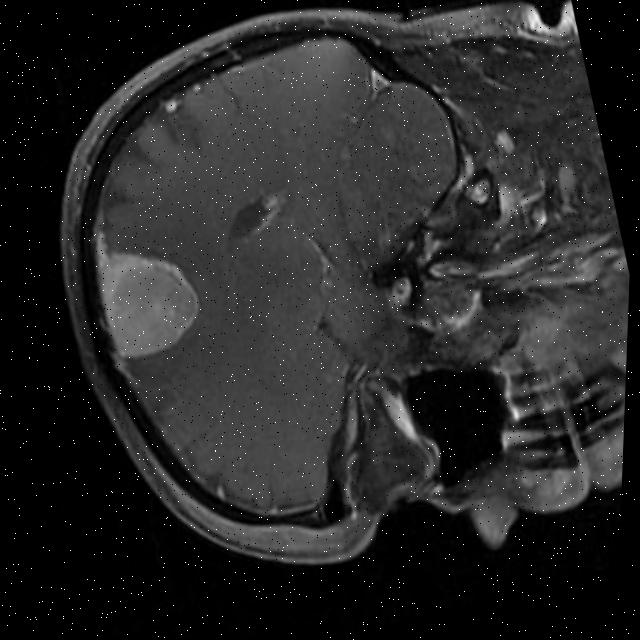Meningioma: (77, 211, 213, 367)
